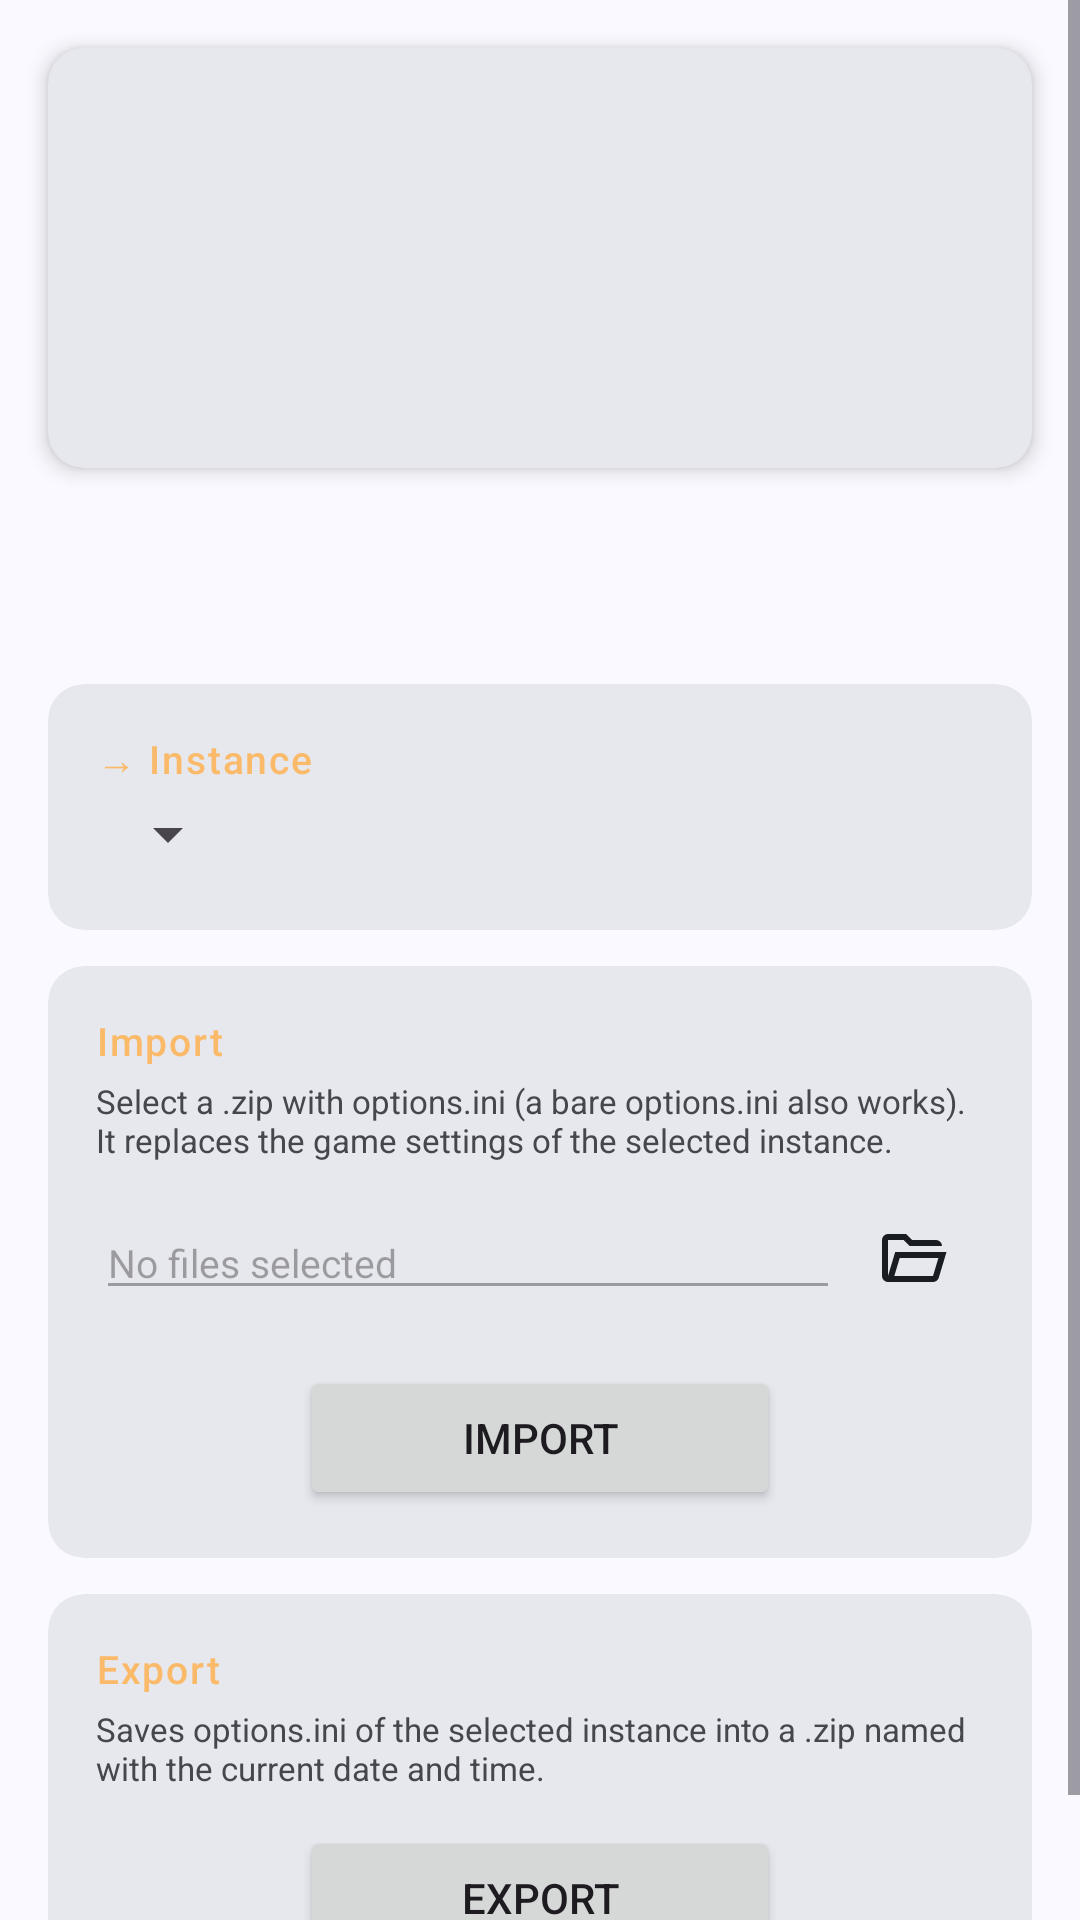

Locate icon controls on the screen. Image size 1080 x 1920, boxes as (x1=x1, y1=y1, x2=x2, y2=y2).
folder open: (x1=882, y1=1234, x2=947, y2=1282)
